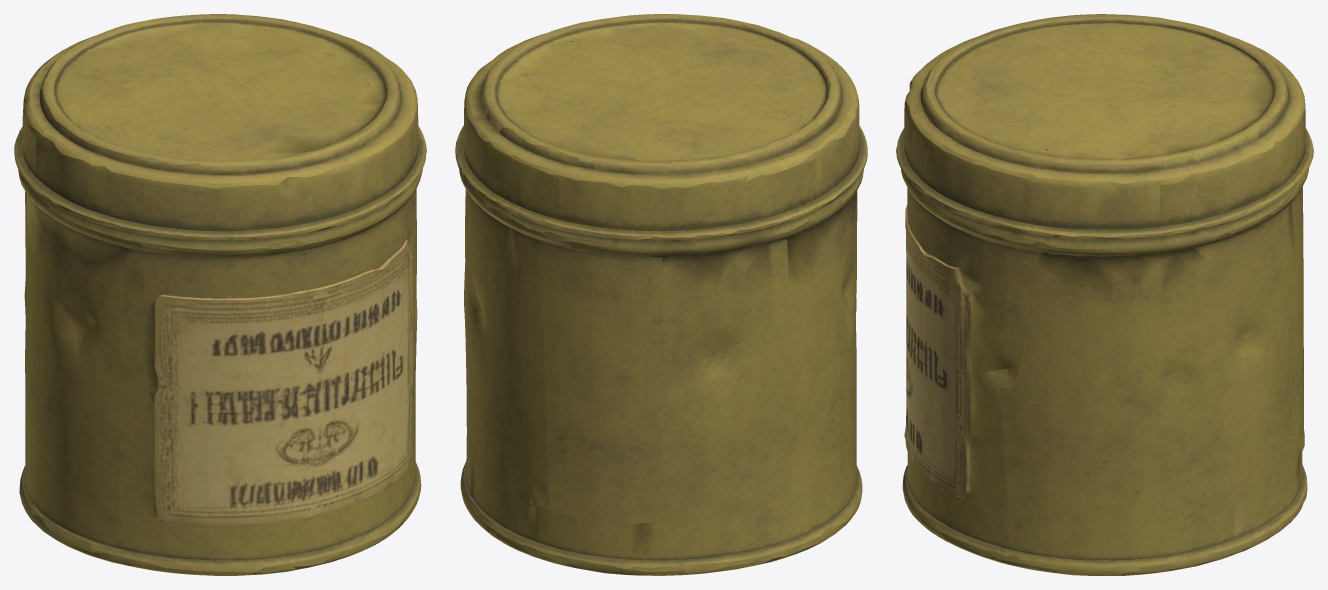
3 renders of one model, left to right at view 1: azimuth 30°, elevation 25°; view 2: azimuth 150°, elevation 25°; view 3: azimuth 270°, elevation 25°, orthographic.
Visible parts, largest first — view 1: world; view 2: world; view 3: world.
Boxes of the visible parts, bbox=[...] form: world: bbox=[14, 14, 426, 575]; world: bbox=[455, 14, 867, 575]; world: bbox=[896, 14, 1313, 575].
Bounding box in the file's own units: 0.097 × 0.105 × 0.0982.
1 material, 1 textured.
